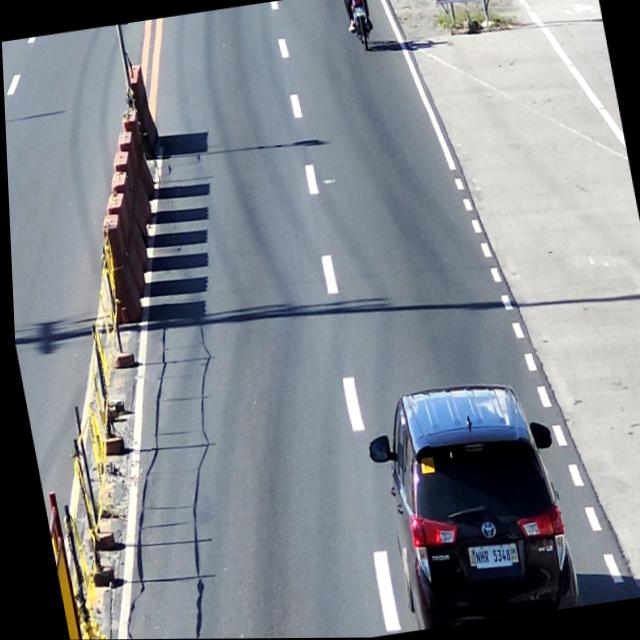Car: (364, 375, 577, 632)
License-Plate: (467, 543, 510, 574), (352, 7, 368, 21)
Motorcycle: (346, 0, 375, 55)
